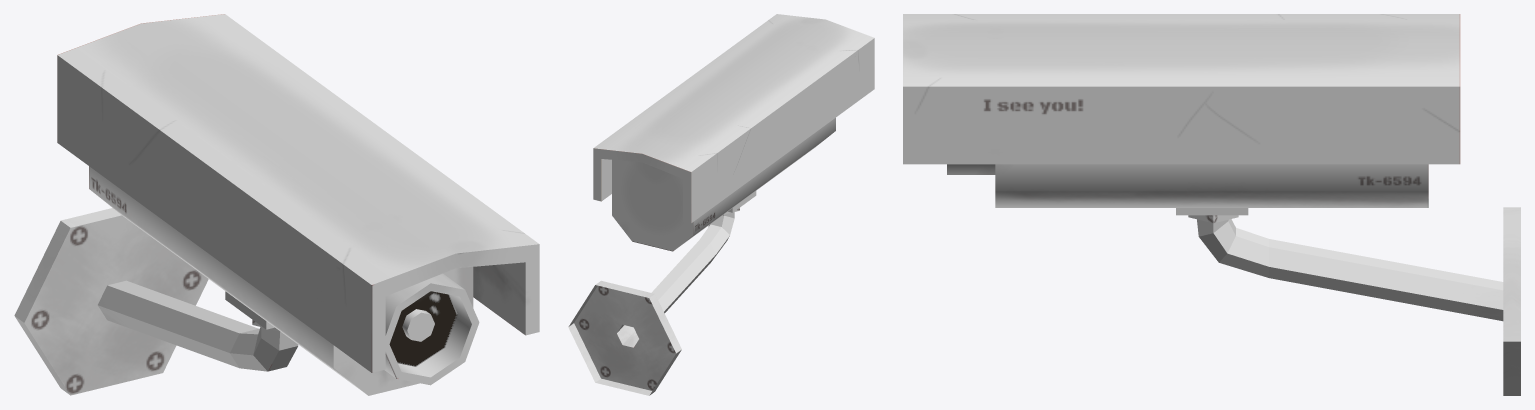
File: CCTV.fbx
The picture shows the model from 3 angles, left to right: view 1: azimuth 30°, elevation 25°; view 2: azimuth 150°, elevation 25°; view 3: azimuth 270°, elevation 25°; orthographic projection. The views are drawn at different scales.
Parts seen in each view (by area): view 1: CCTV; view 2: CCTV; view 3: CCTV.
Part boxes in pixels (left/top/right/bottom): CCTV: left=14, top=14, right=539, bottom=395; CCTV: left=568, top=14, right=874, bottom=395; CCTV: left=903, top=14, right=1520, bottom=395.
Bounding box in the file's own units: 0.313 × 0.612 × 1.02.
